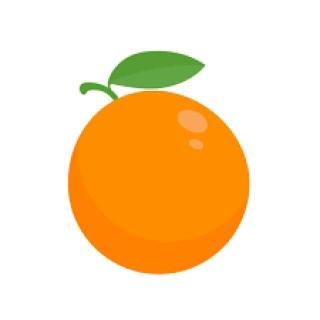orange: (49, 37, 270, 286)
